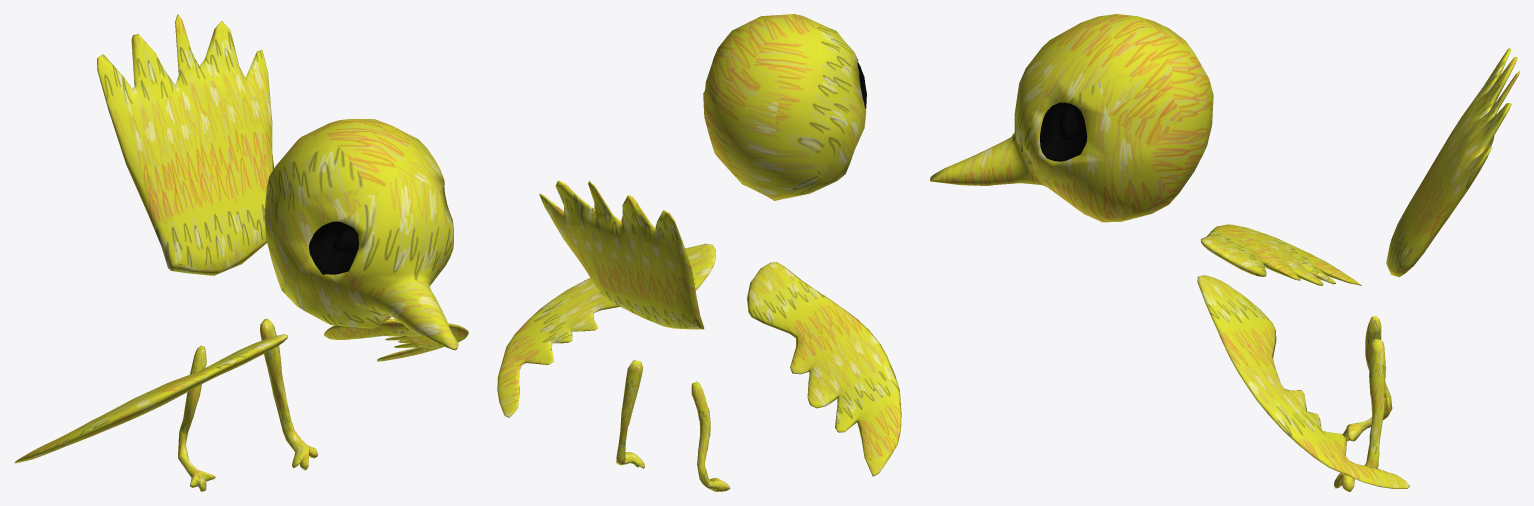
Rendered from ch2_bird.glb.
3 views of the same model, side by side, from view 1: azimuth 30°, elevation 25°; view 2: azimuth 150°, elevation 25°; view 3: azimuth 270°, elevation 25° (orthographic). The views are drawn at different scales.
Parts seen in each view (by area): view 1: _h2, _r21, _b21, _b22, _r23, _r22; view 2: _h2, _b21, _r21, _b22, _r23, _r22; view 3: _h2, _b22, _r21, _b21, _r23, _r22.
Part boxes in pixels (box(x1,y1,x2,y2)): _h2: box(264, 119, 458, 350); _r21: box(97, 14, 273, 275); _b21: box(14, 334, 287, 463); _b22: box(324, 319, 468, 361); _r23: box(260, 318, 317, 470); _r22: box(178, 345, 215, 491); _h2: box(703, 14, 866, 200); _b21: box(747, 262, 901, 476); _r21: box(539, 180, 704, 329); _b22: box(497, 243, 715, 417); _r23: box(616, 360, 644, 468); _r22: box(691, 381, 730, 491); _h2: box(930, 14, 1213, 222); _b22: box(1197, 275, 1409, 488); _r21: box(1386, 48, 1519, 277); _b21: box(1201, 224, 1361, 285); _r23: box(1334, 338, 1385, 491); _r22: box(1343, 316, 1392, 441).
Bounding box in the file's own units: 1.27 × 1.22 × 1.48.
Materials: 2 (1 with a texture image).
